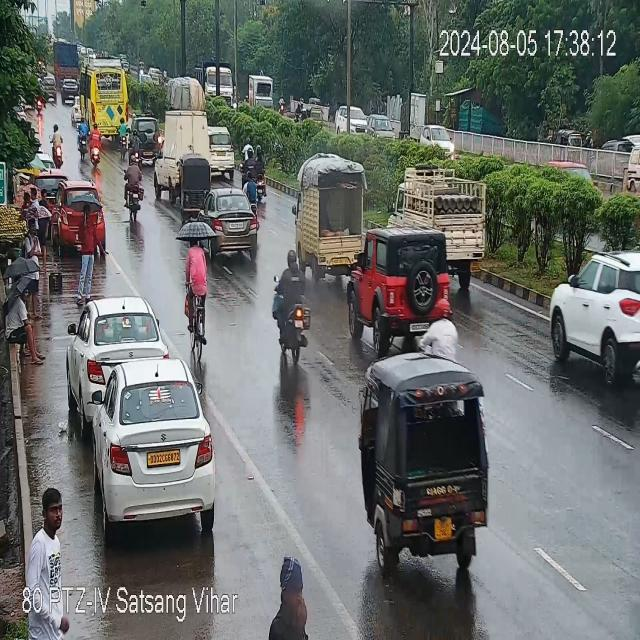2-wheelers: (276, 256, 313, 366), (184, 234, 207, 356), (423, 297, 464, 360), (240, 142, 268, 200), (122, 164, 150, 216), (75, 119, 99, 164), (88, 124, 106, 165), (50, 124, 64, 164), (76, 119, 89, 158), (33, 86, 48, 118), (120, 116, 129, 160)
auto: (368, 351, 495, 569), (170, 156, 212, 208), (126, 128, 163, 166), (307, 106, 322, 125)
bus: (83, 62, 133, 128)
car: (80, 356, 219, 530), (345, 231, 454, 344), (549, 248, 636, 386), (72, 297, 168, 395), (197, 184, 261, 254), (60, 185, 107, 254), (418, 125, 454, 159), (334, 104, 364, 138), (366, 112, 394, 144), (59, 75, 80, 103), (46, 75, 58, 101), (71, 95, 80, 124)
pedestrian: (24, 491, 72, 583), (267, 553, 312, 640), (7, 290, 46, 362), (76, 204, 102, 282), (35, 190, 54, 262)
truck: (397, 176, 492, 273), (96, 586, 234, 638), (156, 111, 238, 187), (195, 56, 234, 111), (53, 41, 73, 80)
